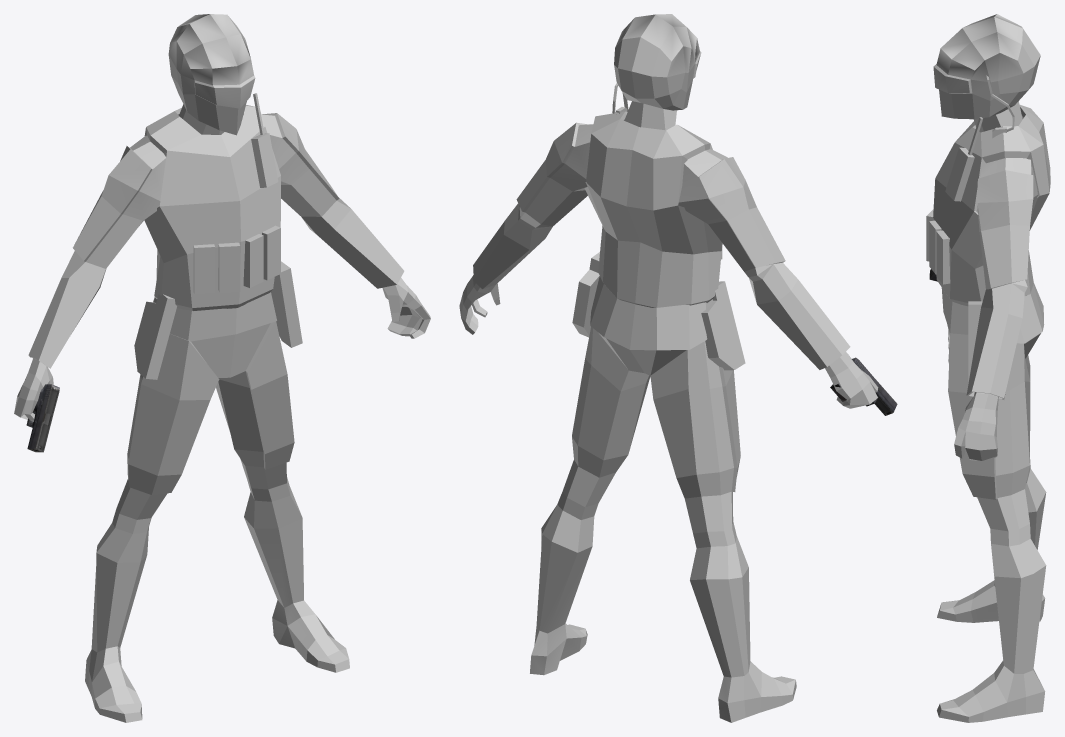
The model's file is SM_Enemy_Glock.fbx.
The picture shows the model from 3 angles, left to right: view 1: azimuth 30°, elevation 25°; view 2: azimuth 150°, elevation 25°; view 3: azimuth 270°, elevation 25°; orthographic projection. The views are drawn at different scales.
Visible parts, largest first — view 1: Enemy 3; view 2: Enemy 3; view 3: Enemy 3.
Part boxes in pixels (left/top/right/bottom): Enemy 3: left=14, top=14, right=430, bottom=722; Enemy 3: left=459, top=14, right=897, bottom=722; Enemy 3: left=926, top=14, right=1050, bottom=722.
Size of the model in its own units: 135 by 206 by 35.83.
